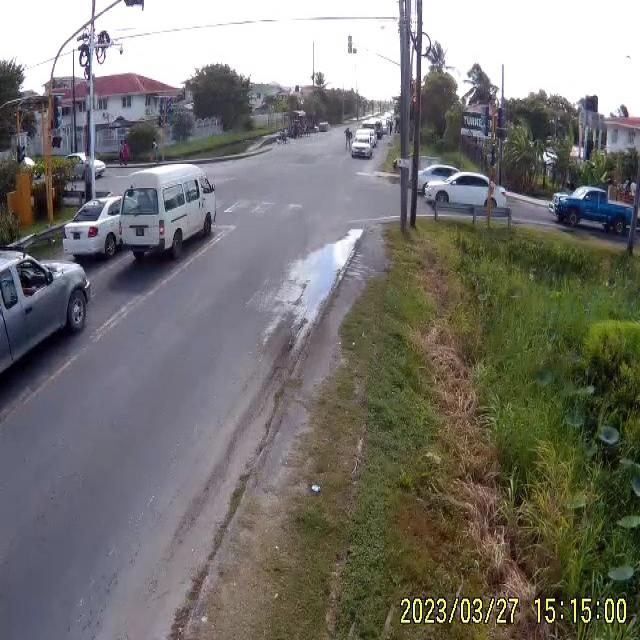car: (0, 244, 92, 436), (117, 165, 215, 262), (63, 198, 122, 260), (553, 189, 633, 234), (422, 174, 509, 210), (416, 164, 460, 194), (352, 131, 377, 160)
person: (120, 142, 130, 167)
